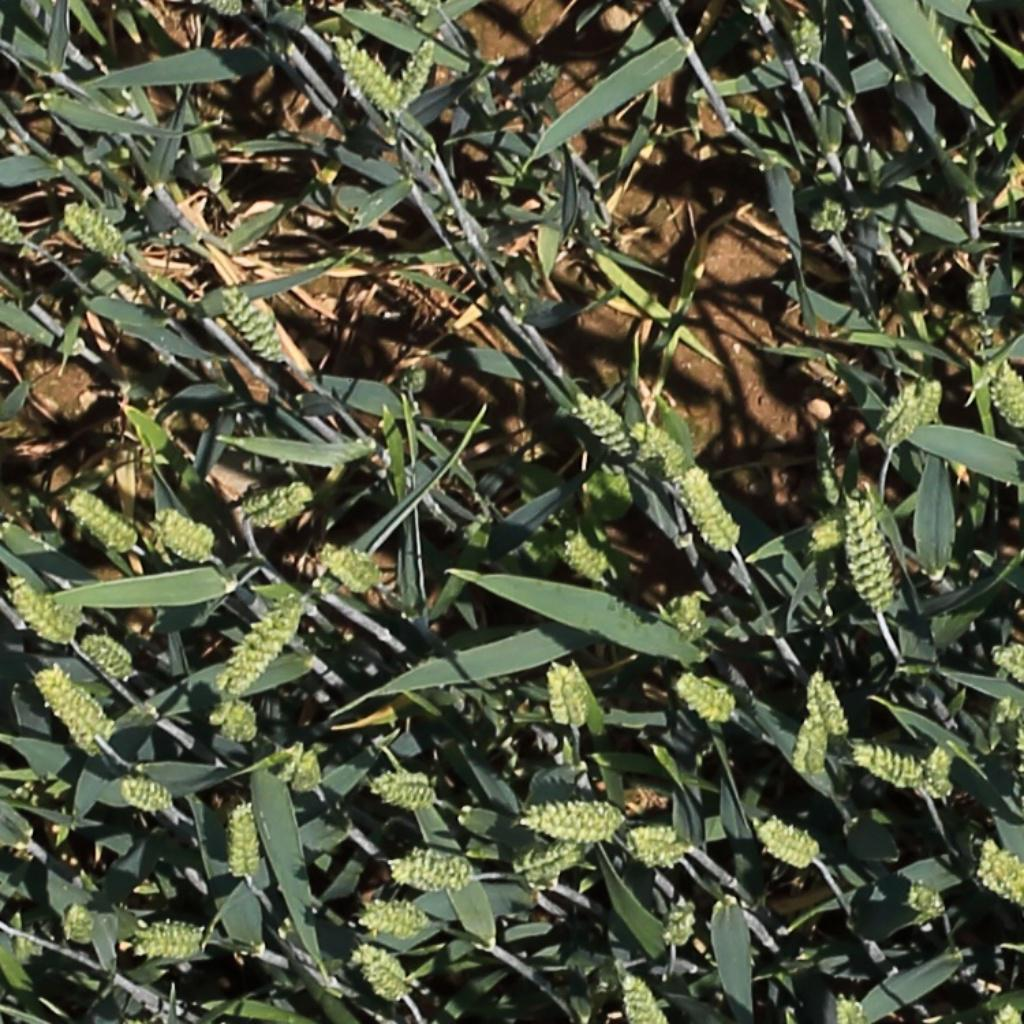0-0: (215, 593, 305, 699), (844, 516, 898, 636), (35, 667, 110, 753), (330, 32, 404, 114), (685, 466, 745, 559), (219, 281, 285, 363), (569, 391, 635, 473), (4, 574, 77, 647), (66, 488, 137, 552), (521, 802, 623, 846), (804, 500, 879, 555), (638, 419, 690, 498), (393, 34, 442, 116), (154, 510, 225, 566), (61, 199, 124, 259), (809, 666, 856, 746), (357, 893, 439, 935), (856, 745, 933, 789), (877, 385, 928, 448), (977, 842, 1022, 912), (374, 770, 442, 815), (319, 544, 382, 591), (392, 849, 466, 888), (352, 951, 412, 999), (562, 529, 613, 585), (677, 675, 737, 722), (797, 708, 834, 783), (814, 426, 851, 501), (277, 744, 330, 796), (756, 824, 821, 866), (804, 194, 866, 238), (117, 777, 186, 816), (899, 880, 955, 927), (989, 356, 1022, 435), (547, 656, 580, 733), (619, 968, 664, 1024), (241, 486, 311, 522), (516, 847, 584, 884), (131, 918, 207, 951), (631, 825, 688, 867), (79, 636, 133, 679), (232, 800, 258, 888), (664, 892, 699, 955), (563, 659, 592, 733), (217, 697, 259, 746), (795, 9, 826, 72), (677, 588, 708, 649), (927, 741, 953, 806), (6, 914, 42, 959), (64, 897, 94, 950), (993, 701, 1024, 751), (919, 379, 947, 431), (966, 266, 992, 322), (0, 200, 25, 255), (991, 648, 1024, 685), (835, 987, 866, 1024), (995, 1000, 1021, 1024)
